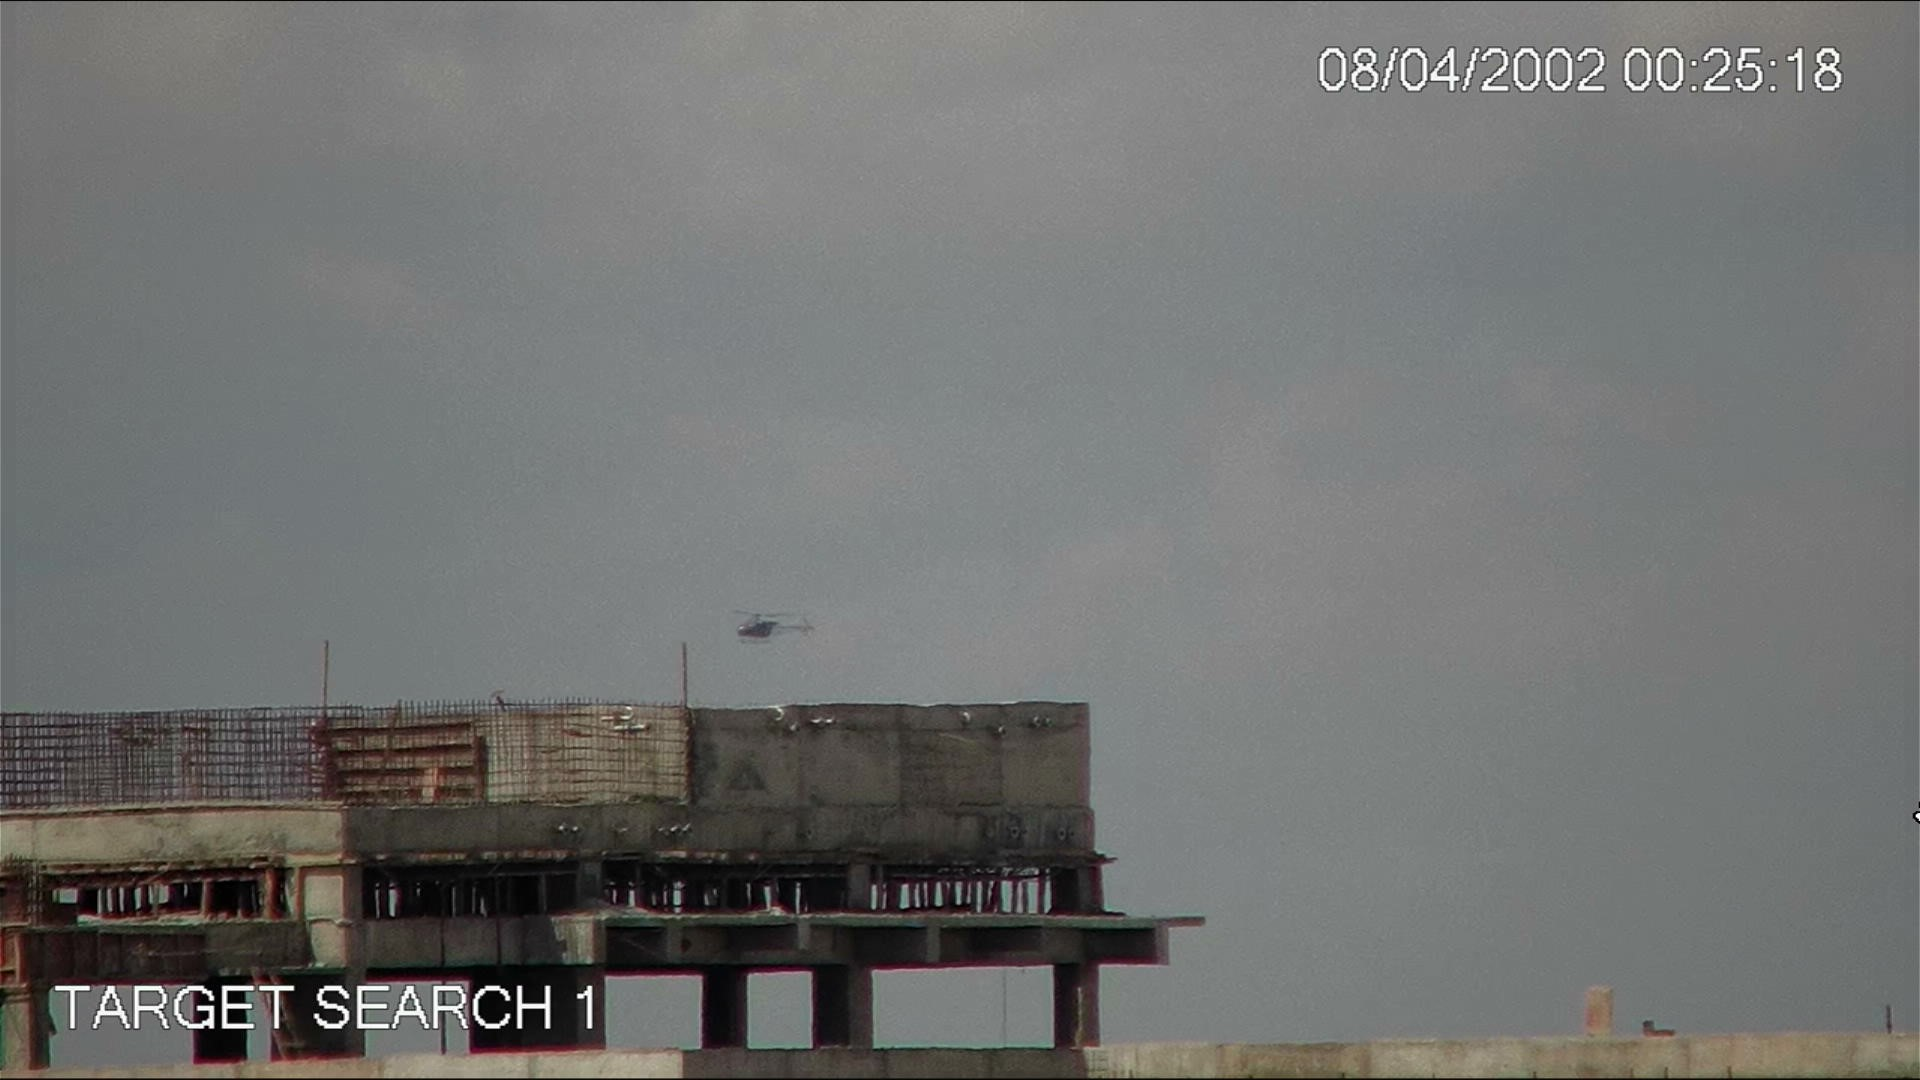SU_30: (725, 603, 820, 651)
